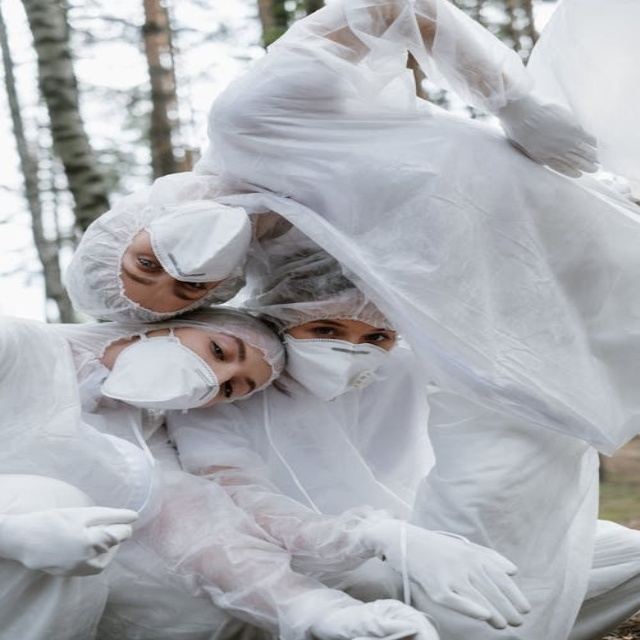Mascara: (102, 332, 224, 412), (146, 202, 253, 285), (282, 332, 395, 401)
Sin_gafas: (129, 250, 204, 305), (202, 334, 250, 409), (307, 320, 396, 346)
